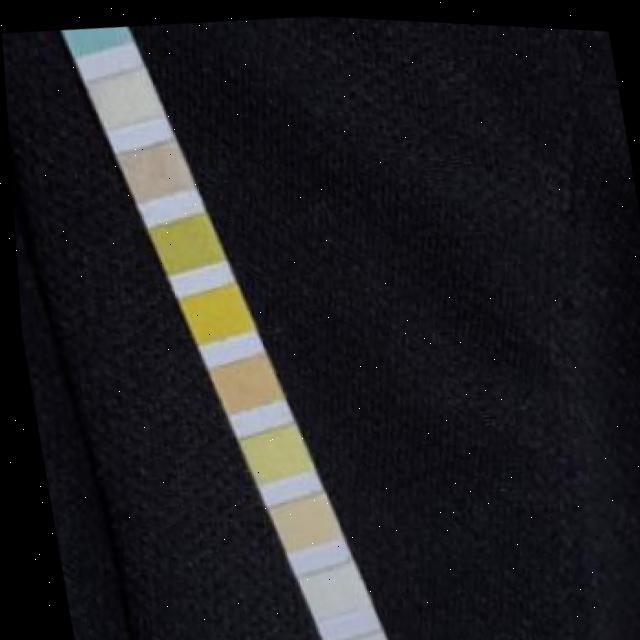Bilirubin: (99, 68, 154, 117)
Blood: (181, 288, 238, 333)
Glucose: (67, 22, 123, 46)
Ketone: (128, 138, 185, 190)
Leukocytes: (325, 631, 377, 640)
Nitrite: (297, 567, 348, 607)
Protein: (243, 428, 295, 469)
SpGravity: (161, 219, 211, 267)
Urobilinogen: (273, 496, 326, 539)
pH: (219, 354, 267, 399)
